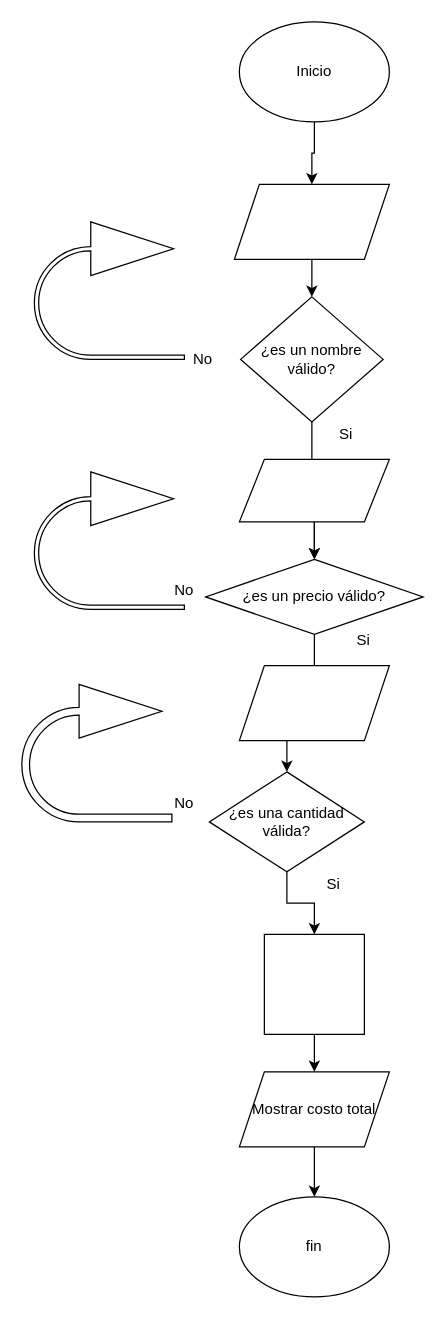
Image size: 445x1319. Some labels were removed from this diagram. The shapes that lost their labels are listed below. From the top down, each one's box as (x1, y1, x2, y2) in pixels, then its label:
(233, 183, 389, 259): Leer nombre del producto
(238, 458, 389, 522): Leer precio del producto
(238, 664, 389, 741): Leer cantidad del producto
(263, 933, 364, 1034): Calcular costo total
